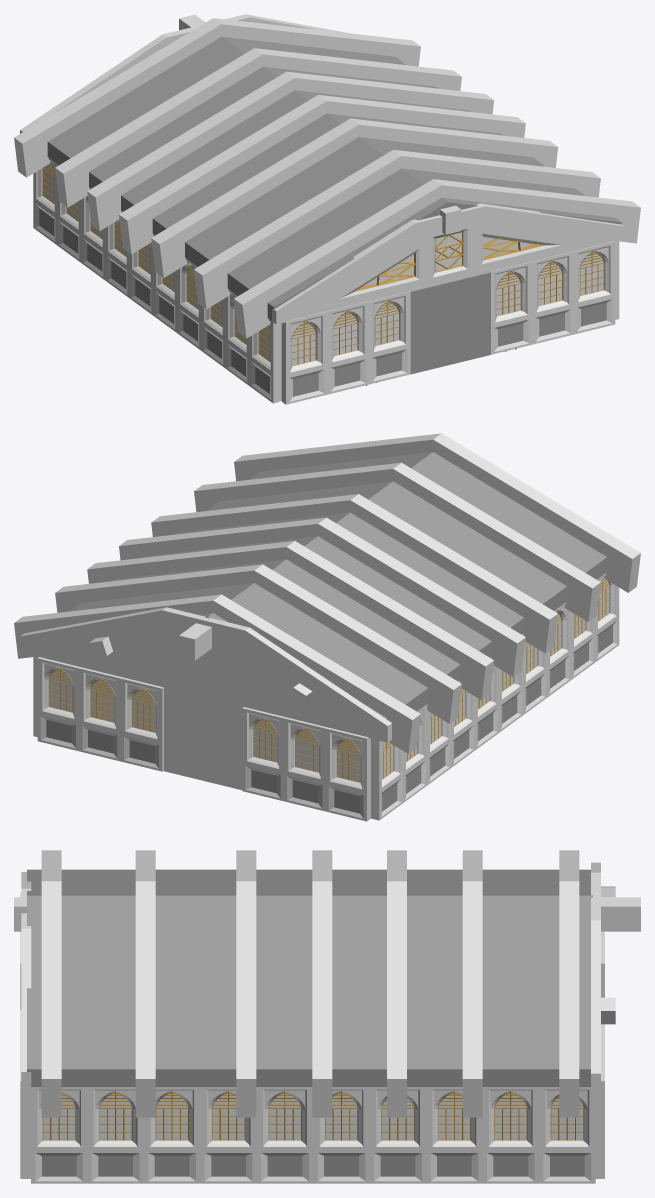
File: ChurchScene.fbx
3 views of the same model, one above another, from view 1: azimuth 30°, elevation 25°; view 2: azimuth 150°, elevation 25°; view 3: azimuth 270°, elevation 25° (orthographic). The views are drawn at different scales.
Parts seen in each view (by area): view 1: Cube.040, Cube.039, Cube.041, Cube.042, Cube.046; view 2: Cube.040, Cube.046, Cube.039, Cube.044, Cube.045; view 3: Cube.040, Cube.038, Cube.046, Cube.042, Cube.045.
Boxes of the visible parts, box(x1,y1,x2,y2) form: Cube.040: box(14, 14, 640, 374); Cube.039: box(33, 158, 281, 403); Cube.041: box(281, 291, 410, 404); Cube.042: box(490, 241, 615, 354); Cube.046: box(20, 14, 348, 133); Cube.040: box(14, 433, 640, 753); Cube.046: box(20, 607, 391, 789); Cube.039: box(371, 573, 619, 820); Cube.044: box(242, 707, 370, 821); Cube.045: box(37, 657, 163, 771); Cube.040: box(14, 850, 640, 1117); Cube.038: box(31, 1087, 595, 1183); Cube.046: box(591, 862, 600, 1093); Cube.042: box(20, 1009, 30, 1178); Cube.045: box(595, 1024, 604, 1178).
Bounding box in the file's own units: 2158 × 947 × 2499.
